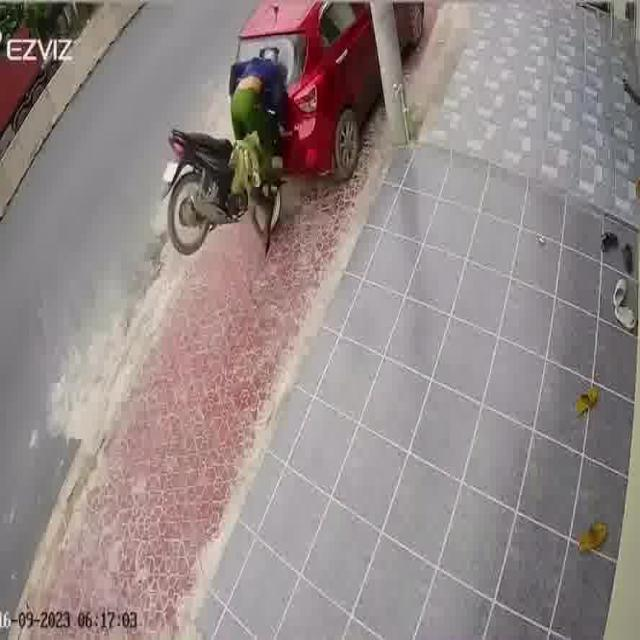multiple_accident: (154, 0, 375, 279)
